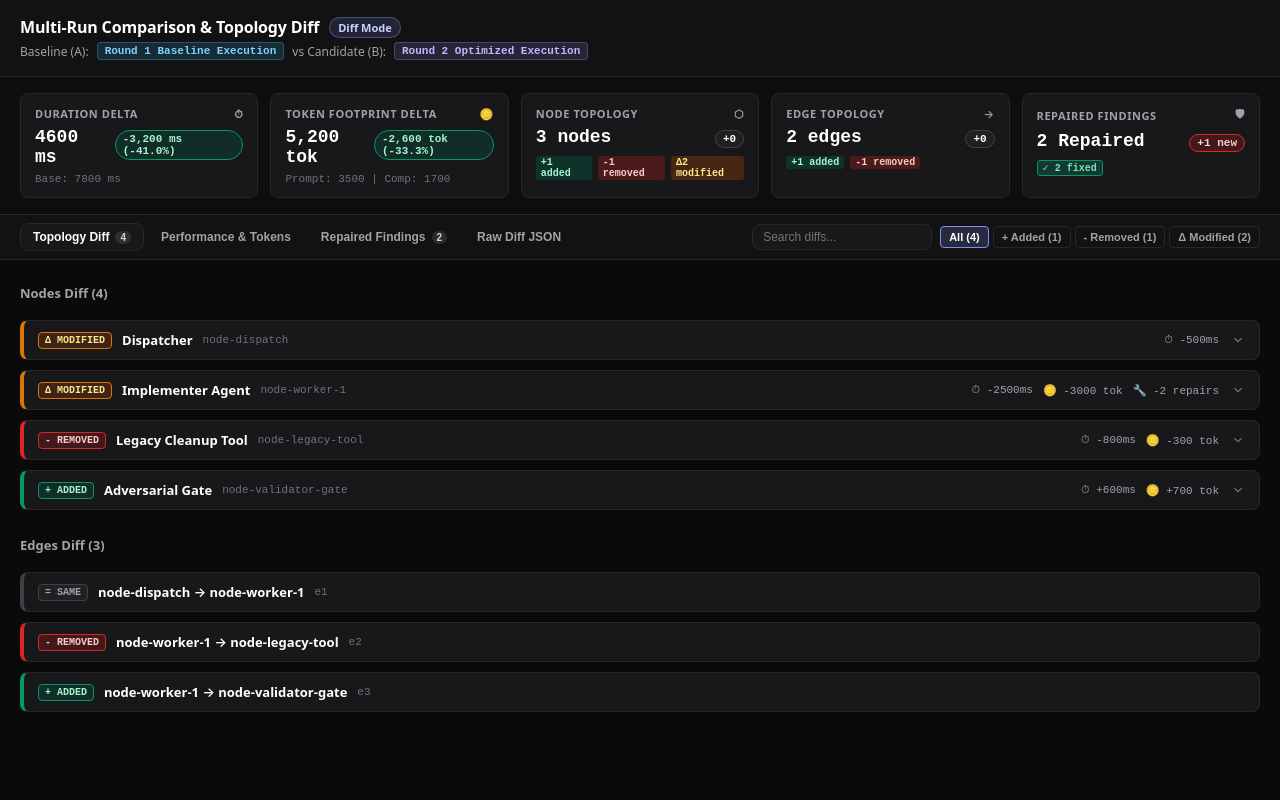
ComparisonView Component › renders raw diff JSON tab
The image size is (1280, 800).
Click the tab with test id "tab-raw".
click(519, 237)  # box [464,223,574,251]
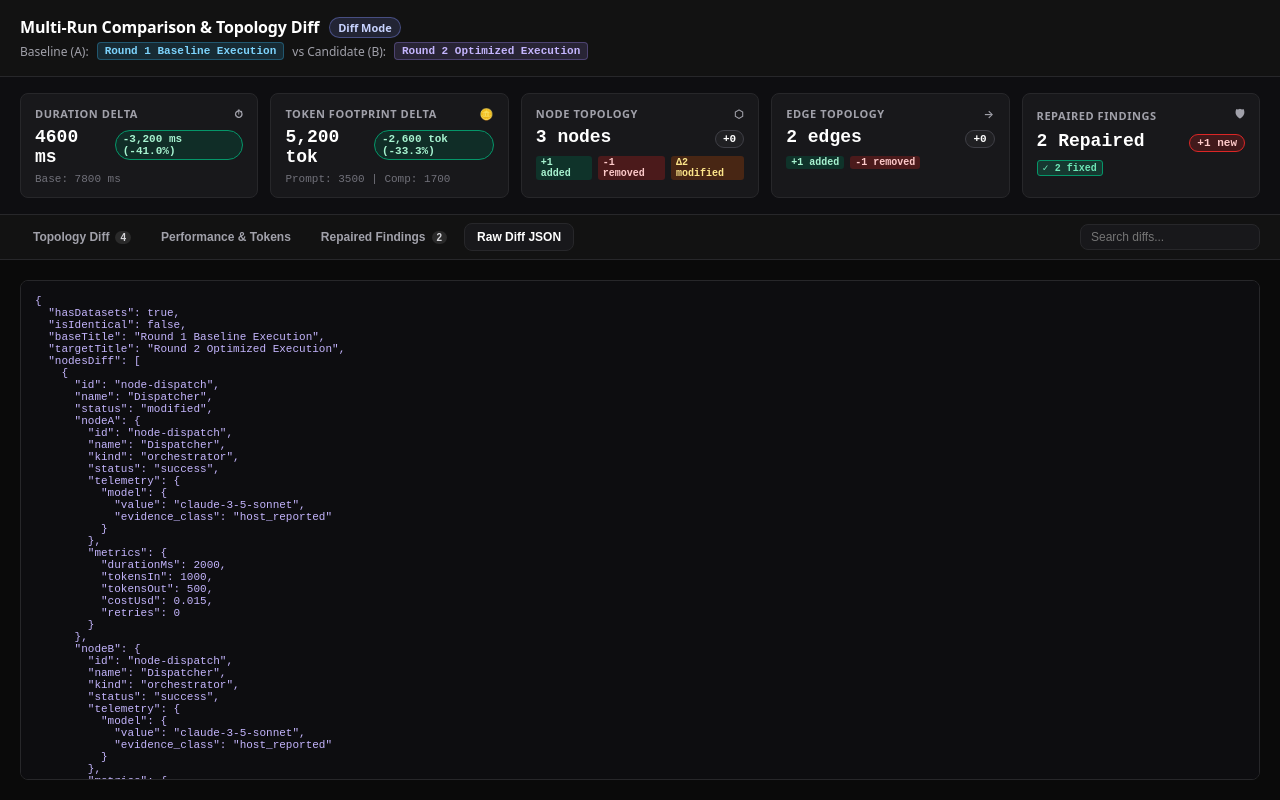
Expected: the element with test id "raw-diff-view" is shown
